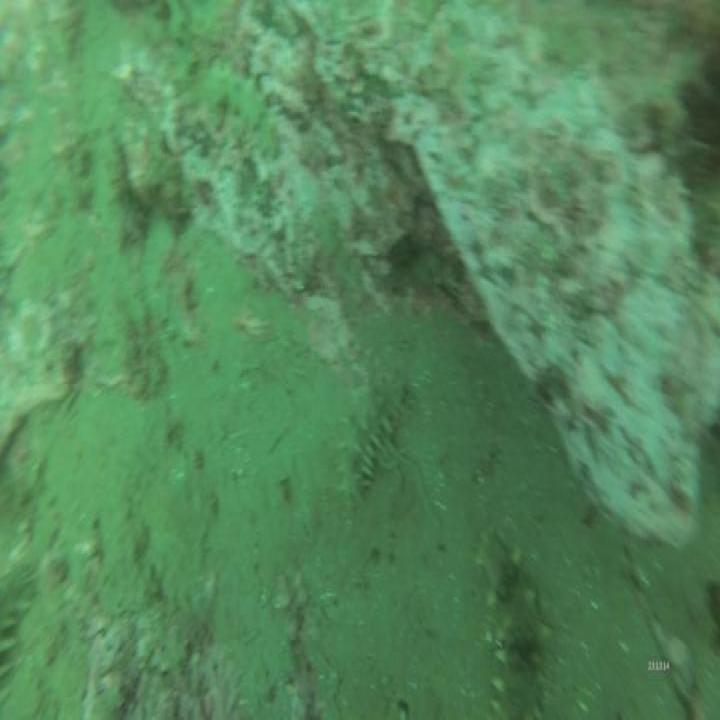holothurian: (476, 526, 548, 720), (338, 361, 407, 512), (202, 55, 276, 167), (315, 204, 362, 320)
